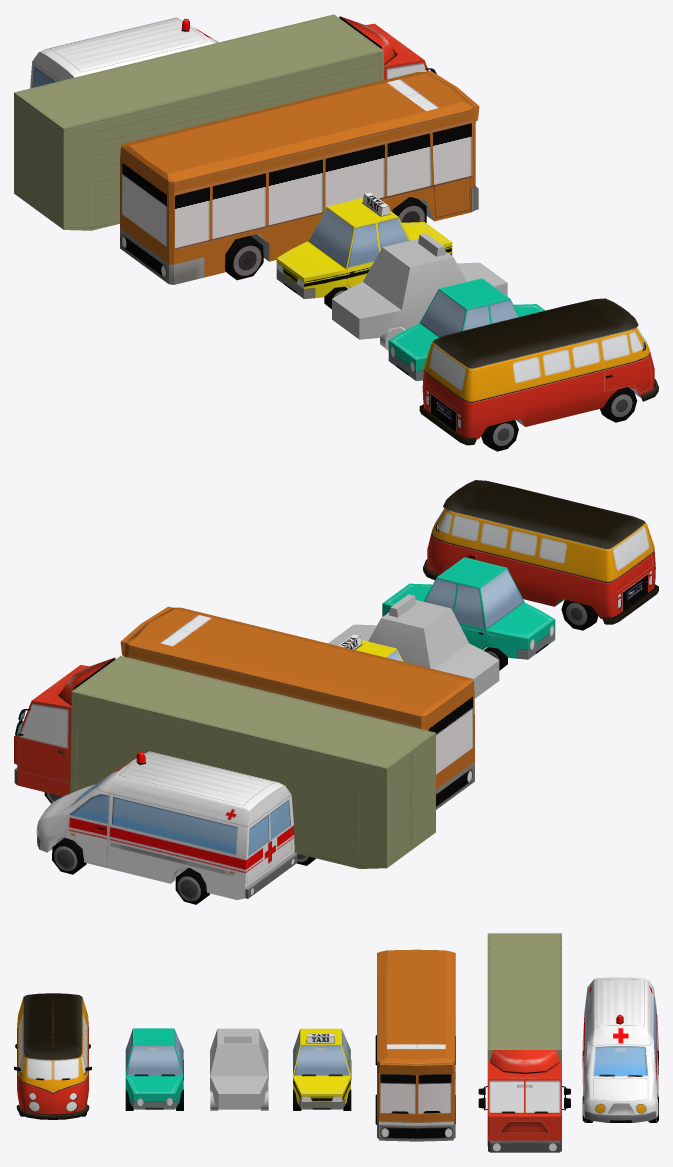
The model's file is vehiles.fbx.
3 views of the same model, one above another, from view 1: azimuth 30°, elevation 25°; view 2: azimuth 150°, elevation 25°; view 3: azimuth 270°, elevation 25° (orthographic). The views are drawn at different scales.
Visible parts, largest first — view 1: Bus_body1, Truck_body1, Van_body, P_car_body1, T_car_body1, Ambulance_body1, Car_body1, Bus_wheel3, Van_wheel4, Van_wheel3, Bus_wheel1; view 2: Truck_body1, Ambulance_body1, Bus_body1, Van_body, Car_body1, P_car_body1, Ambulance_wheel1, Ambulance_wheel3, Van_wheel2, T_car_body1; view 3: Truck_body1, Bus_body1, Ambulance_body1, Van_body, P_car_body1, Car_body1, T_car_body1.
Part boxes in pixels (box(x1,y1,x2,y2)): Bus_body1: box(120, 71, 479, 284); Truck_body1: box(14, 14, 436, 230); Van_body: box(419, 298, 658, 445); P_car_body1: box(332, 233, 507, 339); T_car_body1: box(276, 192, 452, 298); Ambulance_body1: box(30, 17, 218, 88); Car_body1: box(388, 278, 545, 380); Bus_wheel3: box(225, 235, 263, 280); Van_wheel4: box(600, 387, 637, 422); Van_wheel3: box(481, 420, 518, 451); Bus_wheel1: box(392, 197, 426, 222); Truck_body1: box(14, 655, 435, 868); Ambulance_body1: box(36, 751, 297, 899); Bus_body1: box(120, 606, 474, 809); Van_body: box(423, 480, 658, 624); Car_body1: box(382, 557, 555, 659); P_car_body1: box(328, 594, 499, 698); Ambulance_wheel1: box(52, 838, 86, 874); Ambulance_wheel3: box(175, 868, 209, 904); Van_wheel2: box(561, 600, 598, 630); T_car_body1: box(338, 634, 403, 661); Truck_body1: box(478, 933, 570, 1152); Bus_body1: box(377, 949, 455, 1141); Ambulance_body1: box(582, 977, 658, 1122); Van_body: box(14, 993, 91, 1119); P_car_body1: box(210, 1028, 268, 1109); Car_body1: box(125, 1028, 183, 1109); T_car_body1: box(293, 1028, 350, 1109).
Bounding box in the file's own units: 2.06 × 0.6451 × 4.06.
